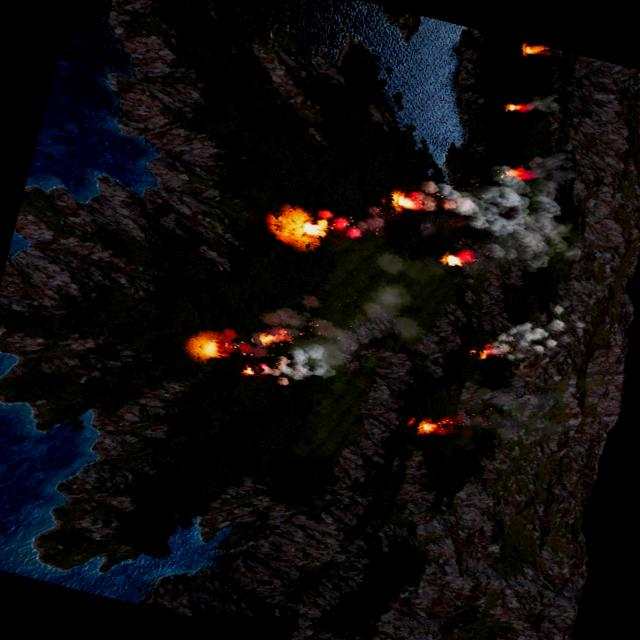fire: (270, 203, 336, 250), (188, 333, 226, 363), (414, 411, 454, 438), (386, 188, 421, 213), (438, 244, 472, 269), (257, 326, 285, 349), (502, 164, 532, 183), (518, 40, 545, 59), (470, 342, 494, 361), (503, 100, 528, 116), (239, 364, 253, 376)
smoke: (408, 122, 604, 278), (244, 260, 432, 416), (483, 304, 564, 368), (310, 194, 388, 244), (521, 87, 560, 115), (373, 250, 408, 276)
